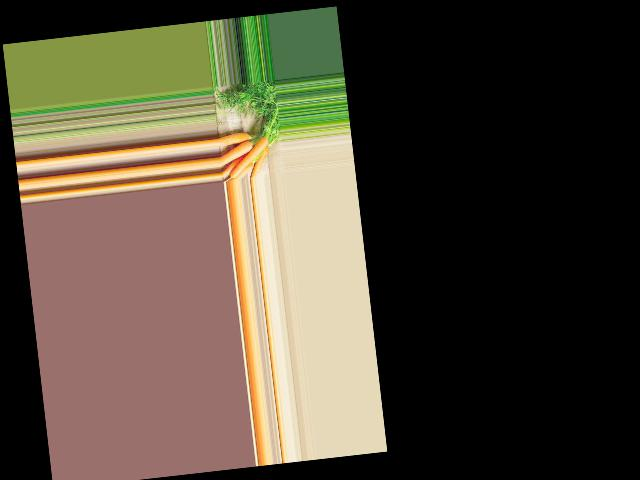carrot: (229, 160, 254, 164)
